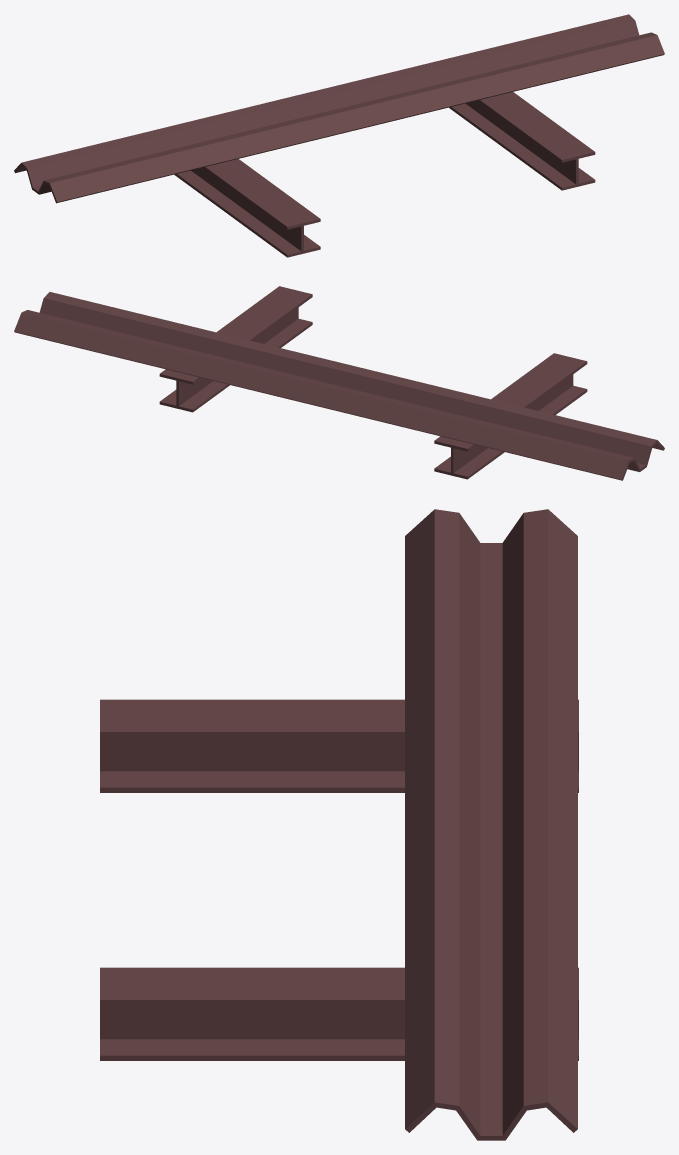
File: Barrier1.fbx
3 views of the same model, one above another, from view 1: azimuth 30°, elevation 25°; view 2: azimuth 150°, elevation 25°; view 3: azimuth 270°, elevation 25° (orthographic). The views are drawn at different scales.
Visible parts, largest first — view 1: Road Side Barrier.004; view 2: Road Side Barrier.004; view 3: Road Side Barrier.004.
Part boxes in pixels (x1,y1,x2,y2): Road Side Barrier.004: [14, 14, 664, 257]; Road Side Barrier.004: [14, 286, 664, 480]; Road Side Barrier.004: [100, 509, 578, 1140].
Bounding box in the file's own units: 583 × 46.39 × 199.
